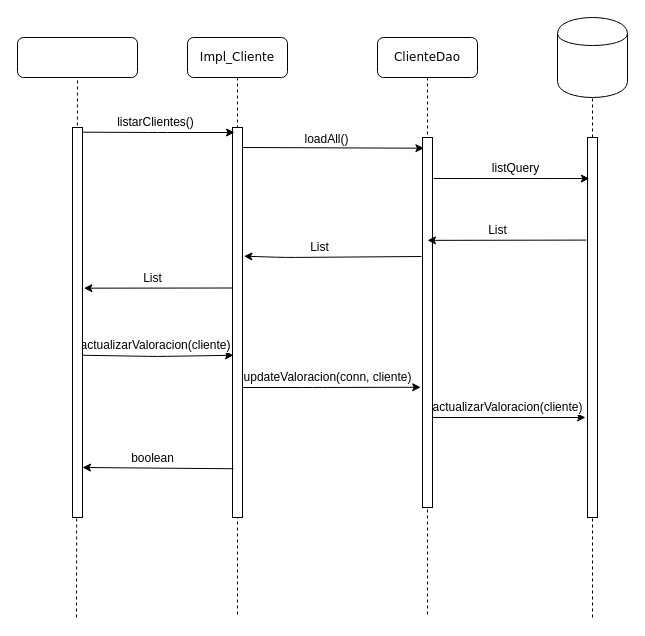
Some shapes in this 645 by 636 pixel diagram are drawn without their labels. The shapes that lost their labels are listed below. From the top down, each one's centre as x and y in pixels, then its label:
(x=77, y=57): <<interface>> ICliente
(x=592, y=57): orderFood
